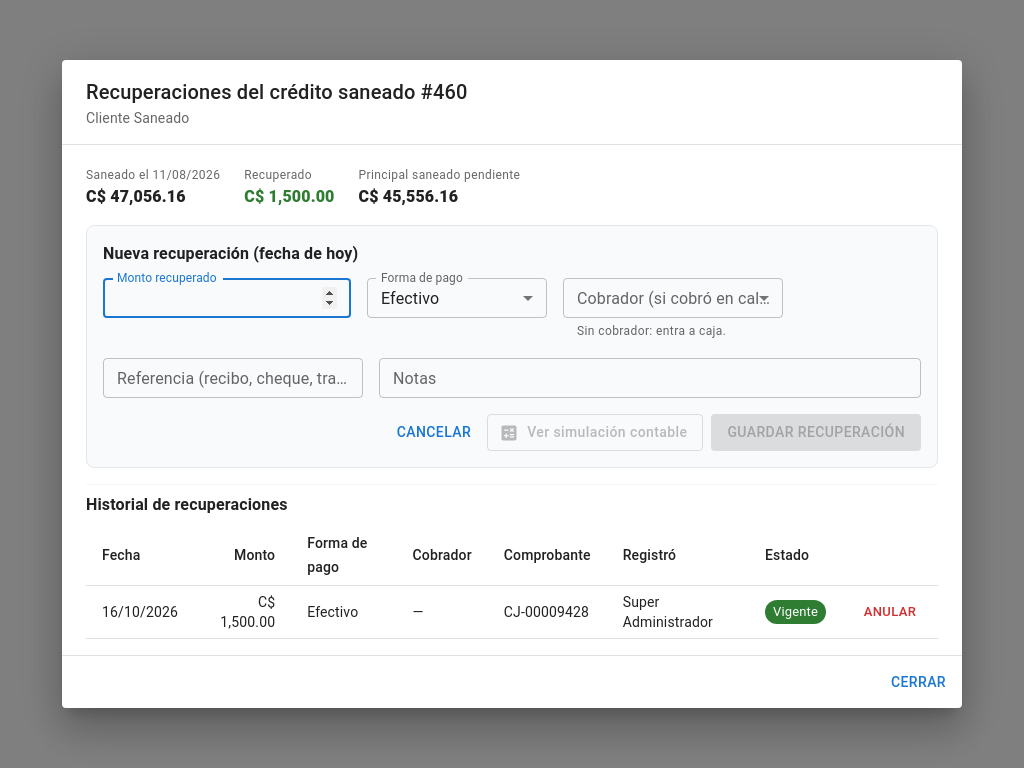
WriteoffRecoveriesDialog (recuperación de cartera saneada) › avisa cuando el monto excede el principal saneado pendiente
Expected: the text "CJ-00009428" is shown, [504,604,589,620]
Step 1. Type "46000" into the number field labelled "Monto recuperado" → {"x": 227, "y": 298}, box [103,278,351,318]
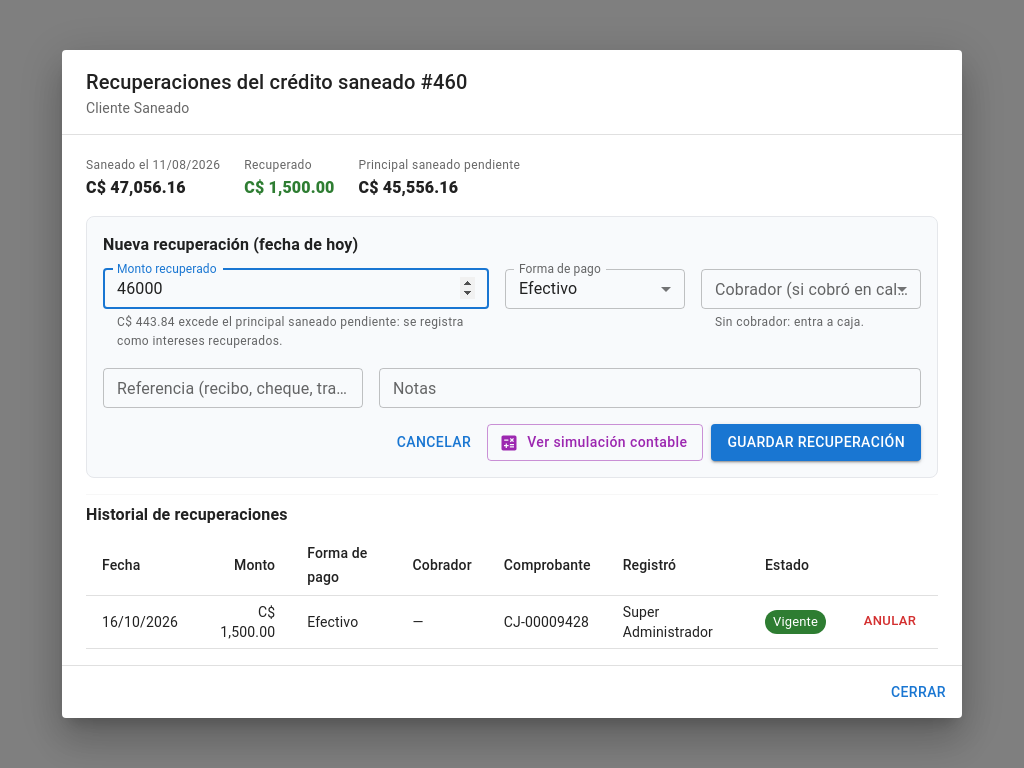
Expected: the text "C$ 443.84 excede el principal saneado pendiente" is shown, [117,314,464,348]
